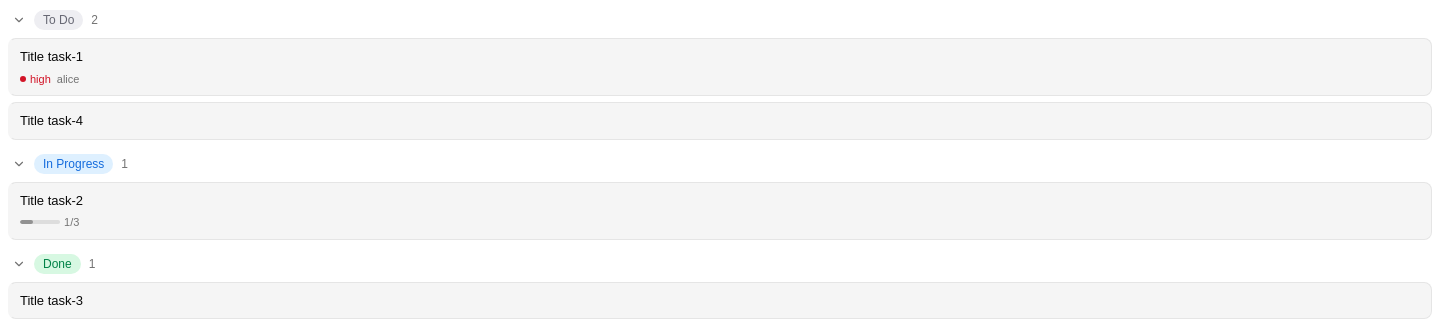
Test: Smoke C2: the sidebar groups real tasks correctly › collapses a status to its header, keeping the count and hiding the cards
Expected: the text "Title task-3" is shown, [20,290,83,310]
Click the button "Done 1". click: (57, 264)
box: [8,252,1432,276]
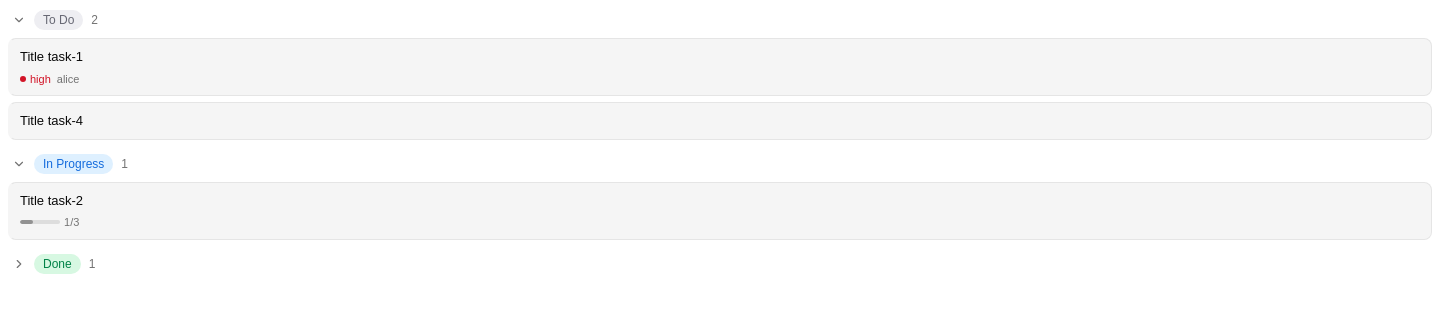
Expected: the text "Title task-1" is shown, [20,47,83,66]
Now the button "Title task-3" is gone
Now the button with aria-label "Done, 1 task" is collapsed, box [8,252,1432,276]
